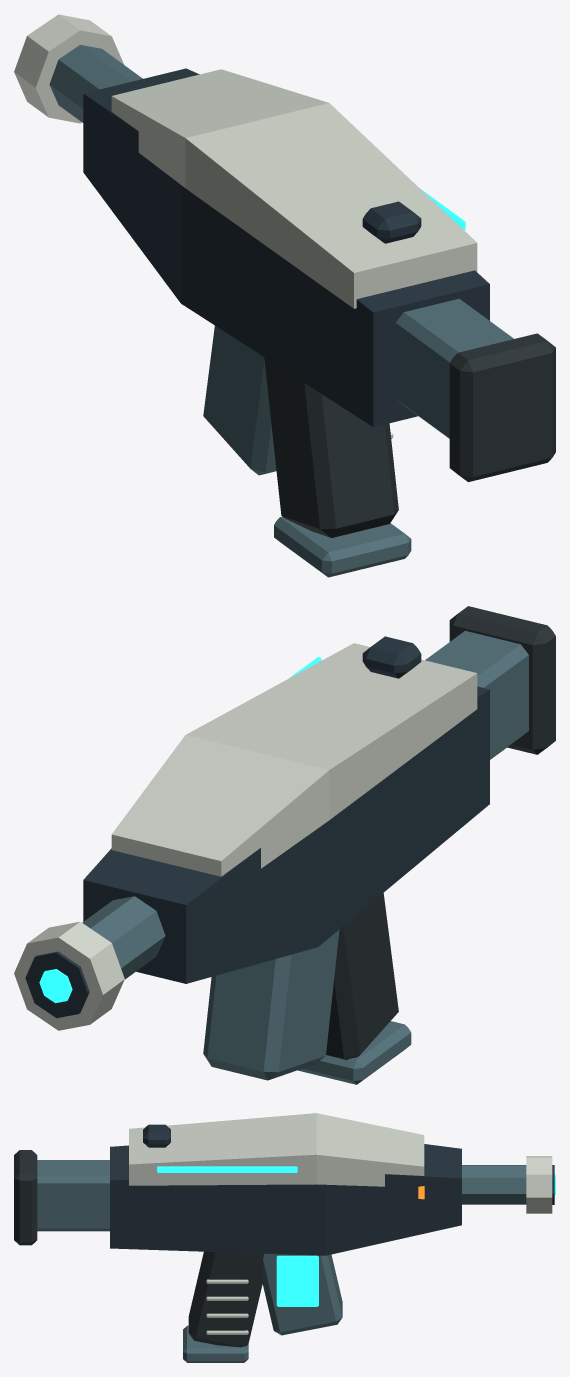
File: 04_lattice_assault.glb
3 renders of one model, top to bottom at view 1: azimuth 30°, elevation 25°; view 2: azimuth 150°, elevation 25°; view 3: azimuth 270°, elevation 25°, orthographic. The views are drawn at different scales.
Parts seen in each view (by area): view 1: upper carapace, receiver, grip.002, butt pad, stock, energy magazine, muzzle collar.002, grip heel.002, long barrel, rear sight; view 2: upper carapace, receiver, energy magazine, grip.002, stock, muzzle collar.002, butt pad, long barrel, grip heel.002, muzzle aperture.002, rear sight, muzzle ion core.002; view 3: receiver, upper carapace, grip.002, stock, energy magazine, long barrel, butt pad, magazine indicator, muzzle collar.002, grip heel.002, luminous flank.002, rear sight.
Boxes of the visible parts, box(x1,y1,x2,y2) form: upper carapace: box(111, 69, 477, 308); receiver: box(83, 68, 489, 426); grip.002: box(264, 357, 398, 537); butt pad: box(449, 333, 555, 482); stock: box(395, 298, 513, 438); energy magazine: box(203, 326, 276, 475); muzzle collar.002: box(14, 14, 124, 123); grip heel.002: box(274, 516, 411, 577); long barrel: box(49, 44, 142, 122); rear sight: box(362, 201, 421, 243); upper carapace: box(111, 643, 477, 876); receiver: box(83, 686, 489, 983); energy magazine: box(203, 929, 339, 1080); grip.002: box(326, 893, 398, 1059); stock: box(425, 630, 528, 759); muzzle collar.002: box(14, 921, 124, 1030); butt pad: box(449, 606, 555, 754); long barrel: box(82, 896, 165, 979); grip heel.002: box(298, 1021, 411, 1084); muzzle aperture.002: box(25, 951, 89, 1018); rear sight: box(362, 636, 421, 678); muzzle ion core.002: box(39, 969, 72, 1003); receiver: box(110, 1144, 461, 1255); upper carapace: box(129, 1113, 424, 1186); grip.002: box(188, 1251, 263, 1347); stock: box(37, 1160, 109, 1231); energy magazine: box(262, 1253, 342, 1335); long barrel: box(462, 1165, 526, 1204); butt pad: box(14, 1150, 37, 1245); magazine indicator: box(276, 1255, 318, 1306); muzzle collar.002: box(526, 1156, 552, 1213); grip heel.002: box(183, 1325, 248, 1362); luminous flank.002: box(157, 1166, 297, 1172); rear sight: box(143, 1124, 170, 1147).
Bounding box in the file's own units: 0.2135 × 0.525 × 1.16.
